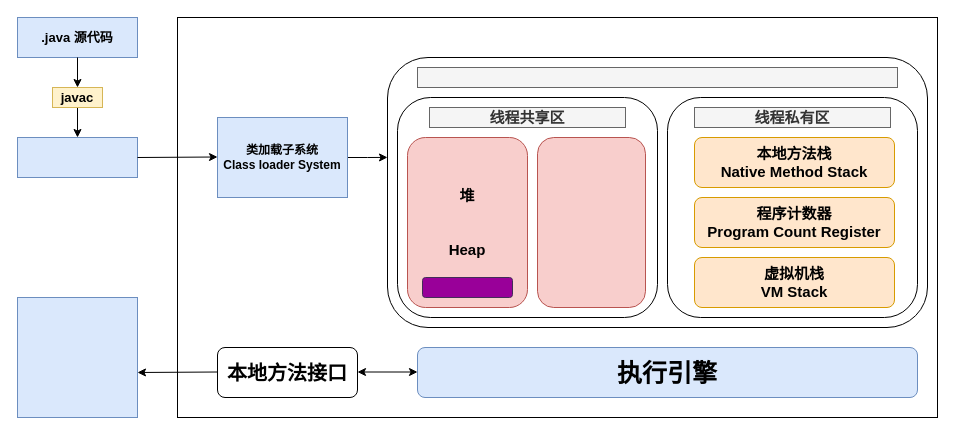
This 955x435 diagram has some shape labels left out. The shapes that lost their labels are listed below. From the top down, each one's centre as x and y in pixels, then its label:
the point at 657,77: 内存 —— 运行时数据区
the point at 77,157: .class 字节码文件
the point at 591,222: 方法区 Method Area
the point at 467,287: 运行时常量区
the point at 77,357: 操作系统 本地方法
